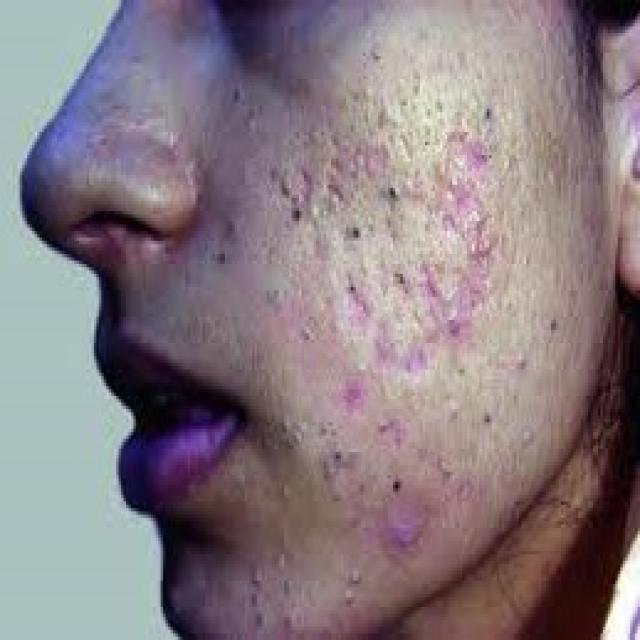Acne: (339, 181, 447, 373), (320, 426, 436, 580), (447, 172, 492, 354), (416, 104, 506, 167), (328, 117, 411, 183), (241, 552, 303, 636), (348, 41, 425, 107), (266, 282, 322, 368), (268, 172, 310, 255), (208, 204, 242, 290), (258, 409, 303, 465), (286, 104, 328, 160), (337, 373, 377, 429), (534, 286, 580, 332), (228, 76, 260, 142), (467, 394, 512, 440), (98, 231, 128, 287), (502, 346, 532, 386), (338, 580, 364, 624)
